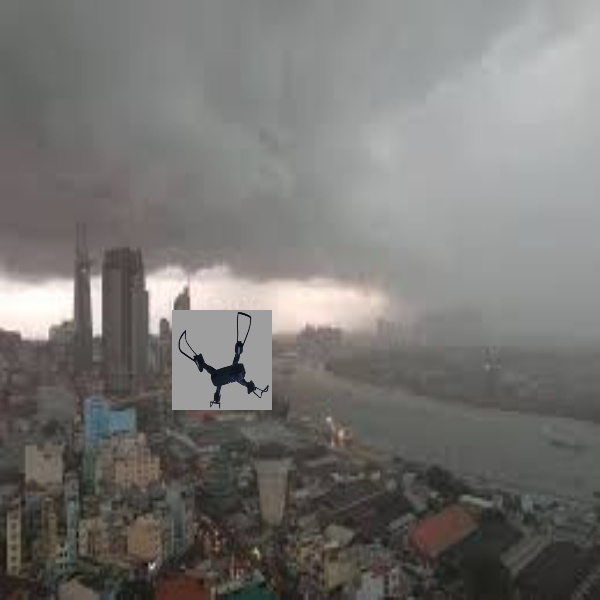drone: (172, 313, 277, 411)
